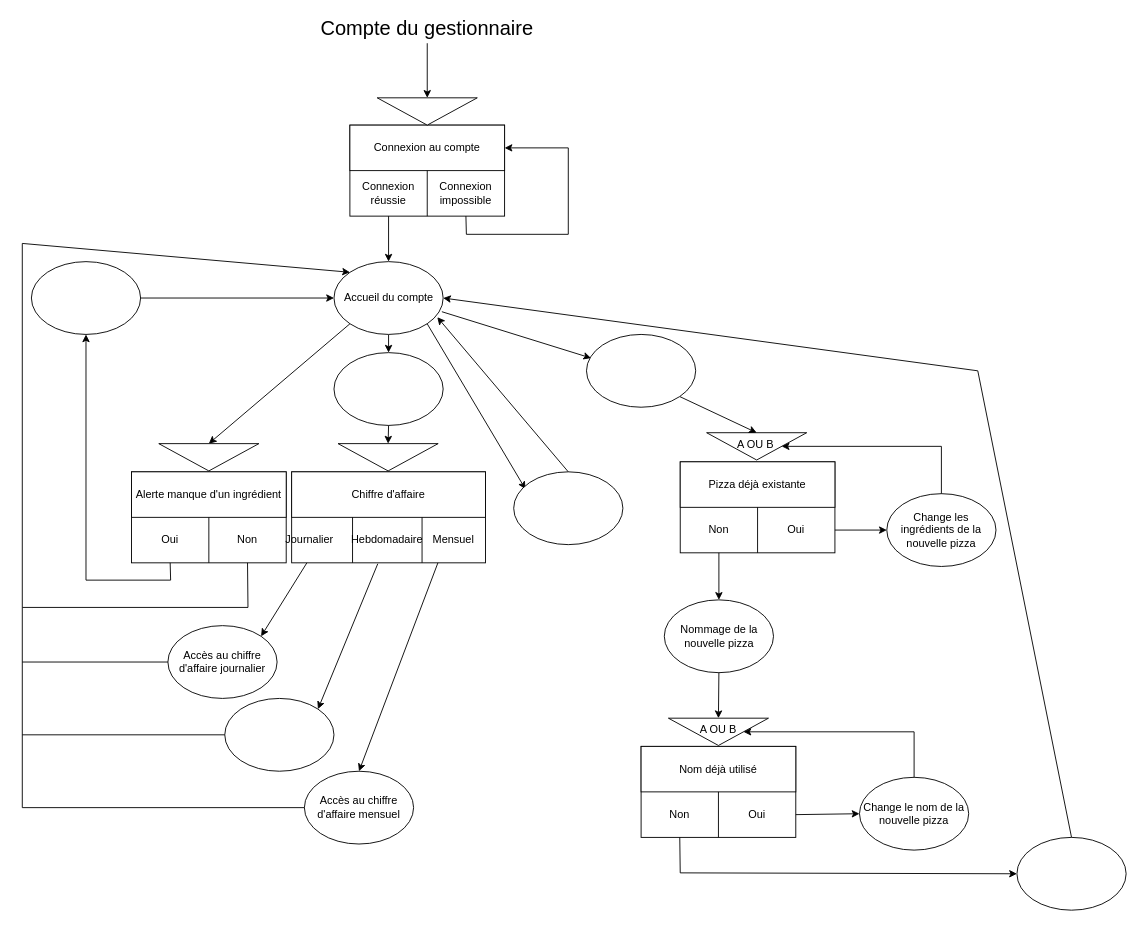
Image size: 1142x926. Some labels were removed from this diagram. Each missing label, with the centre of its shape:
"Accès au chiffre d'affaire hebdomadaire" goes at (279,734).
"Donner la liste des allergènes d'une pizza" goes at (568,508).
"Nouvelle pizza créée" goes at (1071,873).
"Passe commande de l'ingrédient manquant" goes at (85,297).
"Souhaite accéder aux statistiques" goes at (388,388).
"Souhaite créer une nouvelle pizza" goes at (641,370).
